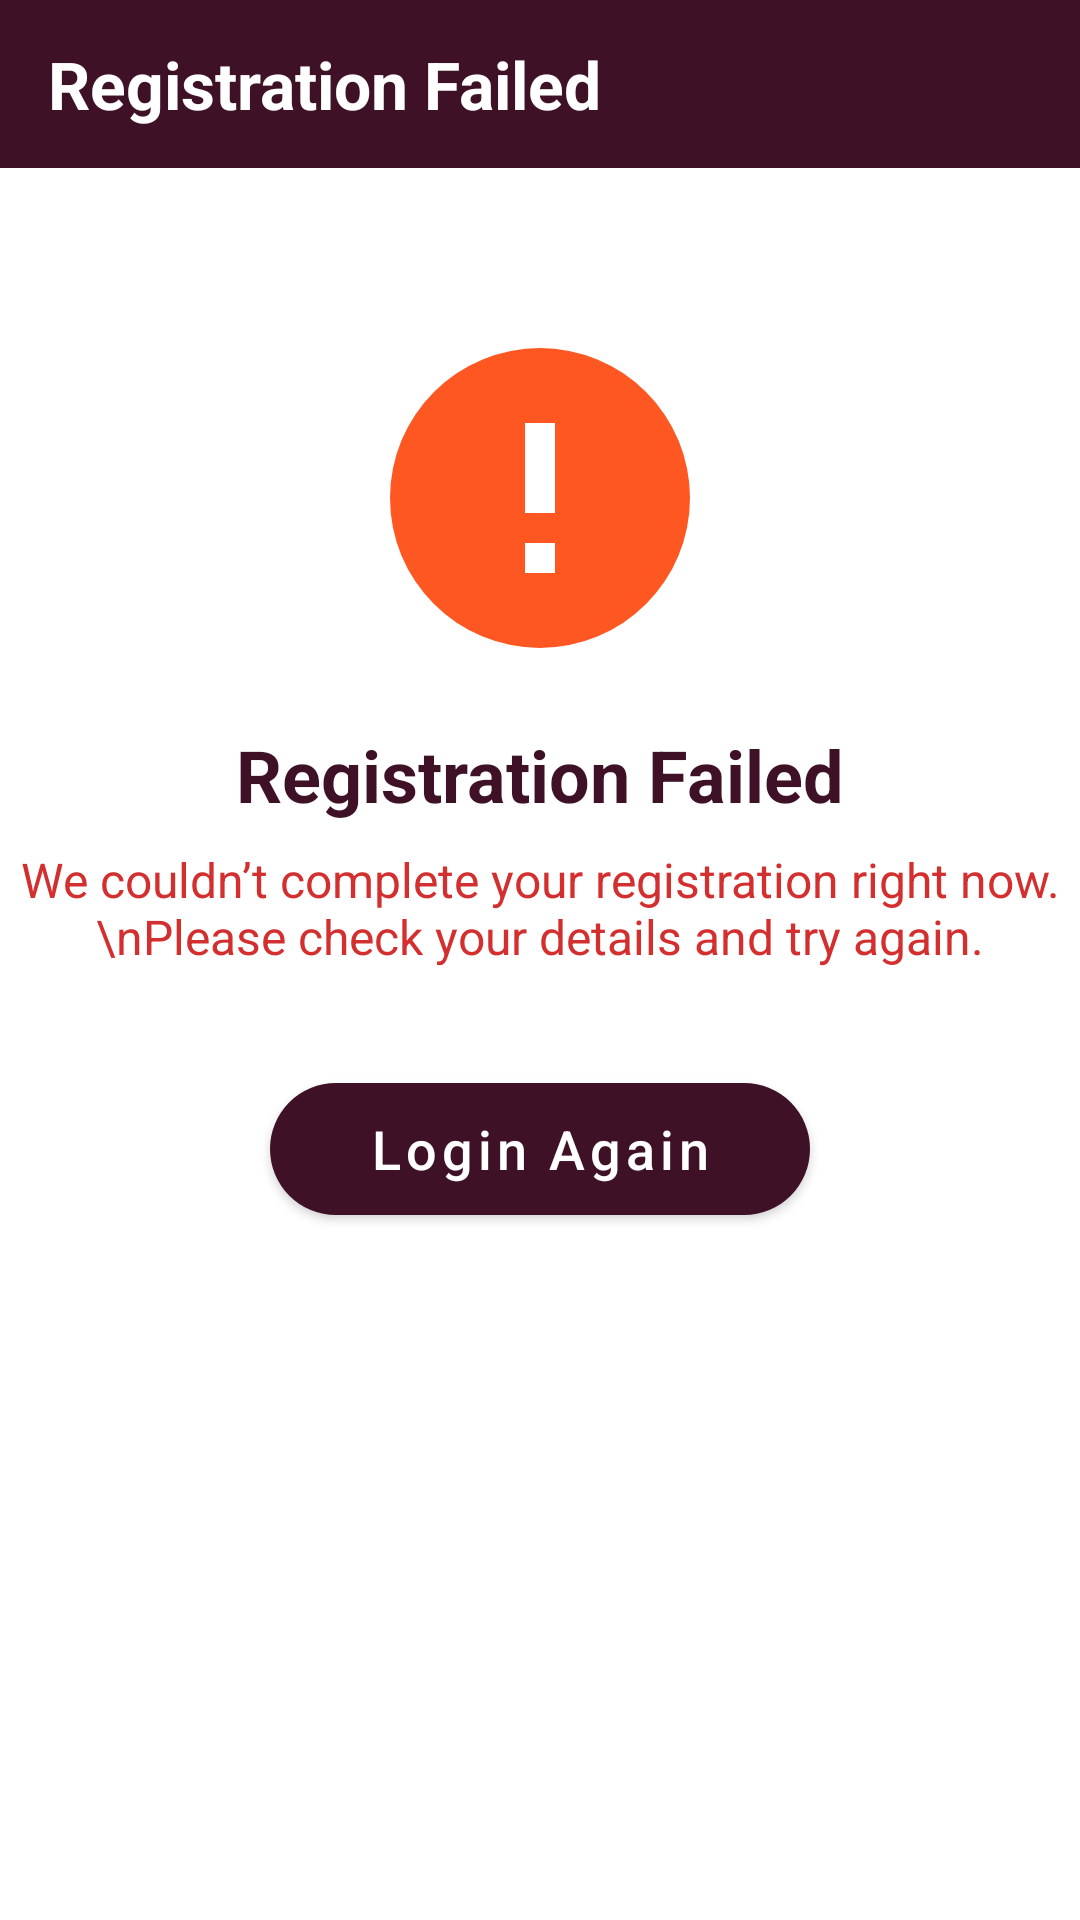

Screen size 1080px x 1920px. Icon name, then its box in pixels as (x1, y1, x2, y2):
Error Icon: (390, 348, 690, 648)
